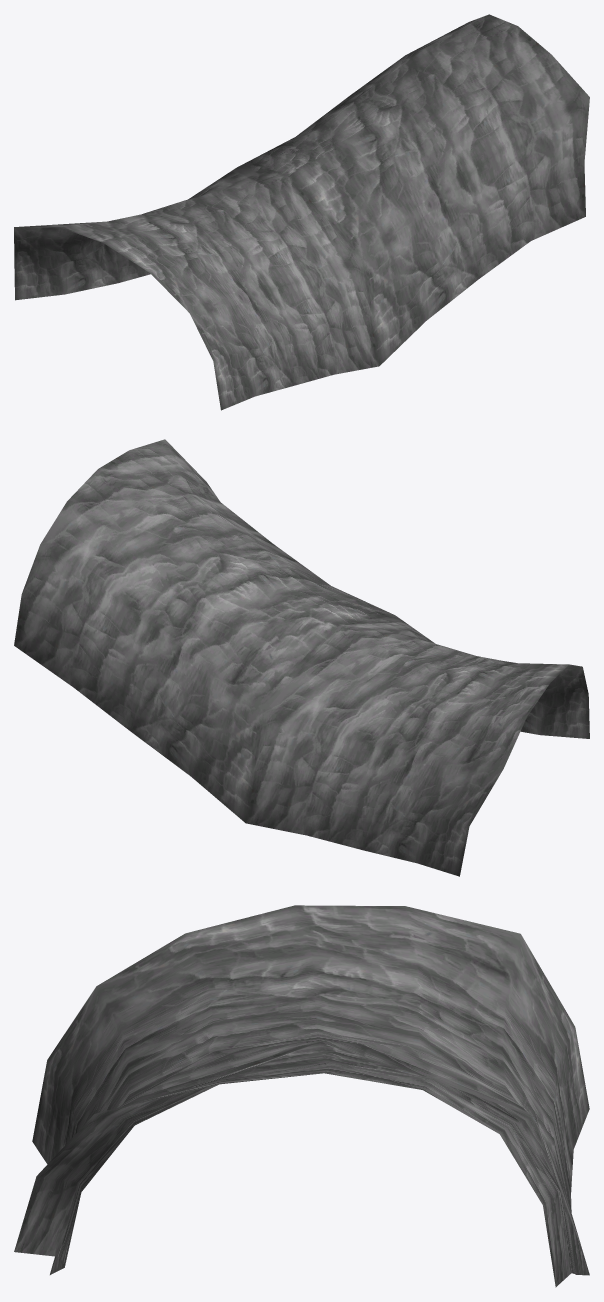
Rendered from SWORDLIGHT20_PS-AREA02_01.fbx.
The picture shows the model from 3 angles, top to bottom: view 1: azimuth 30°, elevation 25°; view 2: azimuth 150°, elevation 25°; view 3: azimuth 270°, elevation 25°; orthographic projection. The views are drawn at different scales.
Parts seen in each view (by area): view 1: SWORDLIGHT20_PS-AREA02_01; view 2: SWORDLIGHT20_PS-AREA02_01; view 3: SWORDLIGHT20_PS-AREA02_01.
Boxes of the visible parts, x1=… form: SWORDLIGHT20_PS-AREA02_01: x1=14, y1=14, x2=589, y2=410; SWORDLIGHT20_PS-AREA02_01: x1=14, y1=439, x2=589, y2=876; SWORDLIGHT20_PS-AREA02_01: x1=14, y1=905, x2=589, y2=1287.
Bounding box in the file's own units: 126087 × 60841 × 81466.
Materials: 1 (1 with a texture image).
